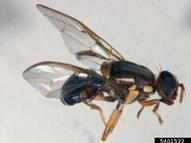Fruit fly: (37, 28, 183, 134)
